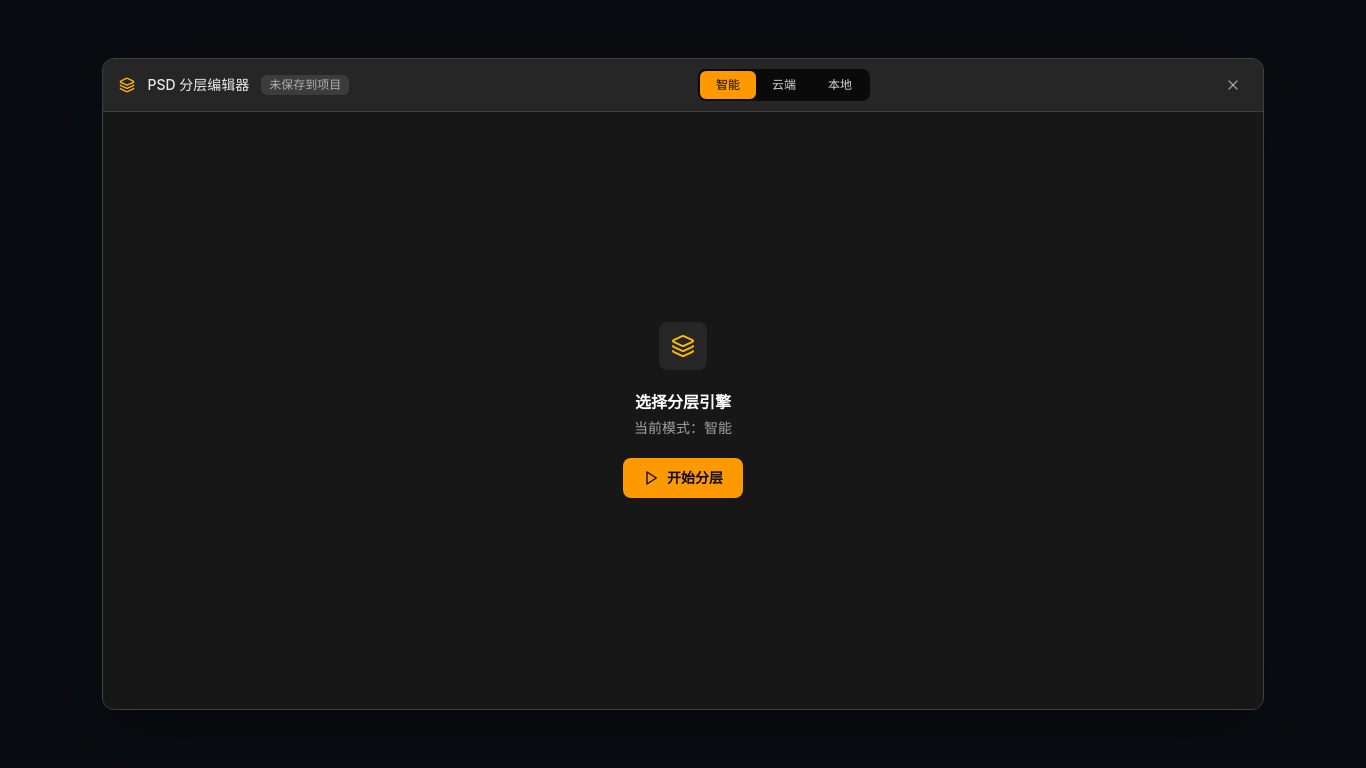
Test: PsdLayerEditor cancellation registration race › does not report cancellation success when the server returns a completed task
Click the button with test id "layer-start": (683,478) [623,458,743,498]
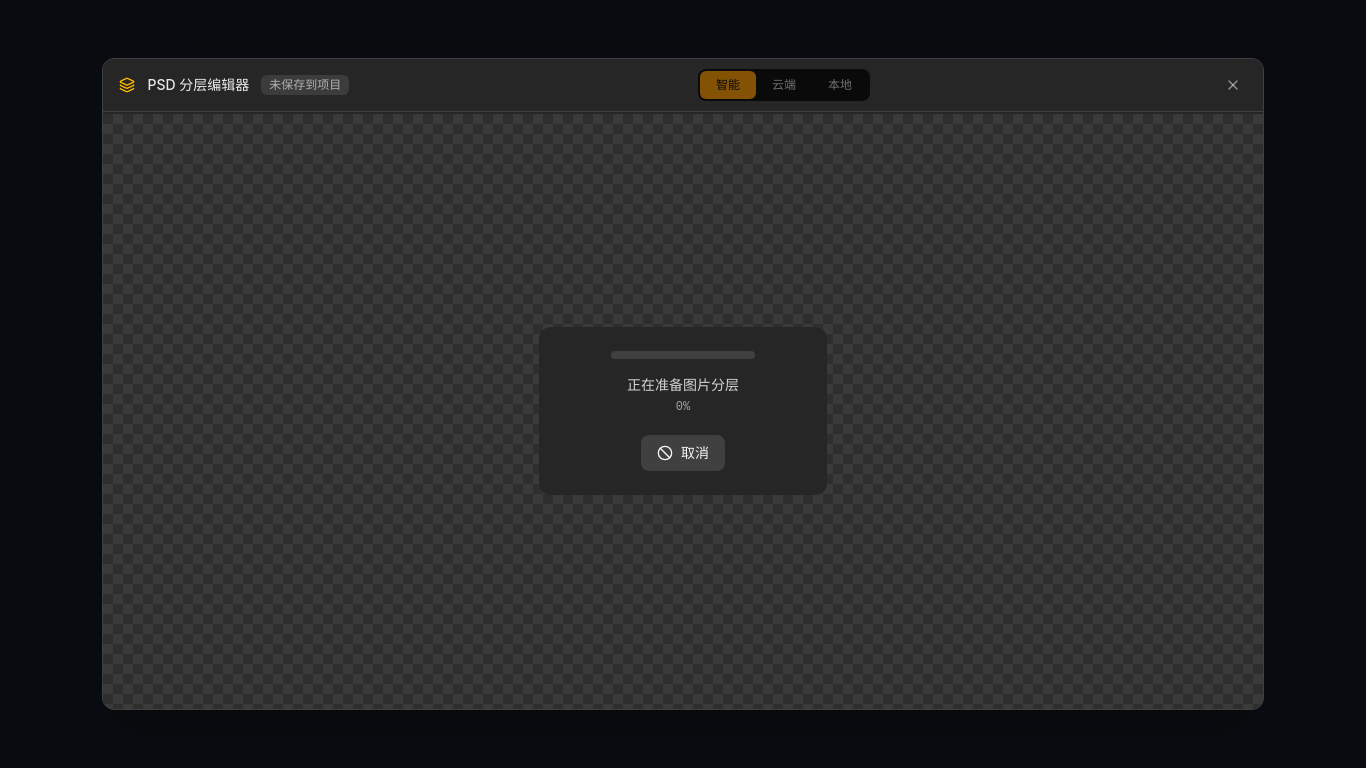
Click the button with test id "layer-cancel": (683,454) [641,436,725,472]
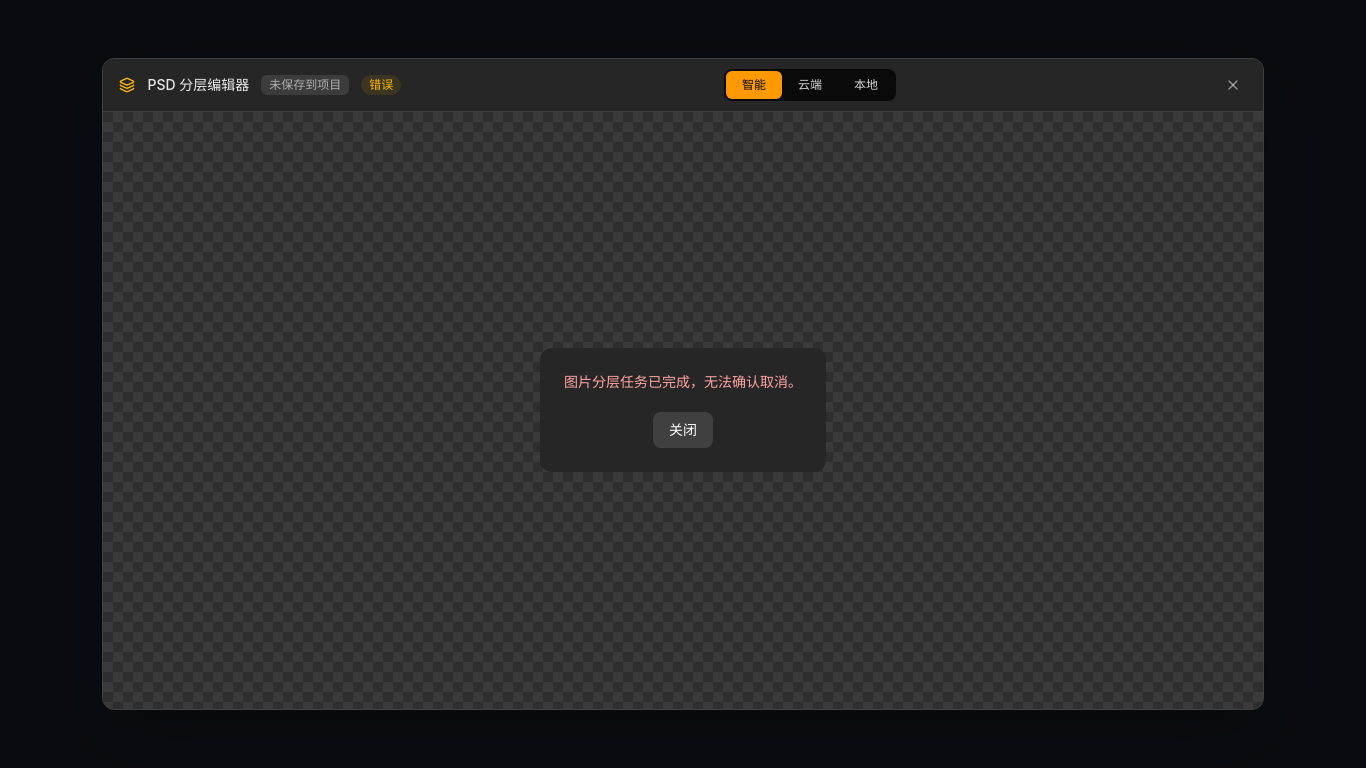
Expected: the element with test id "layer-error" is shown, [540,348,826,472]
Expected: the text "图片分层任务已完成，无法确认取消。" is shown, [564,372,802,392]
